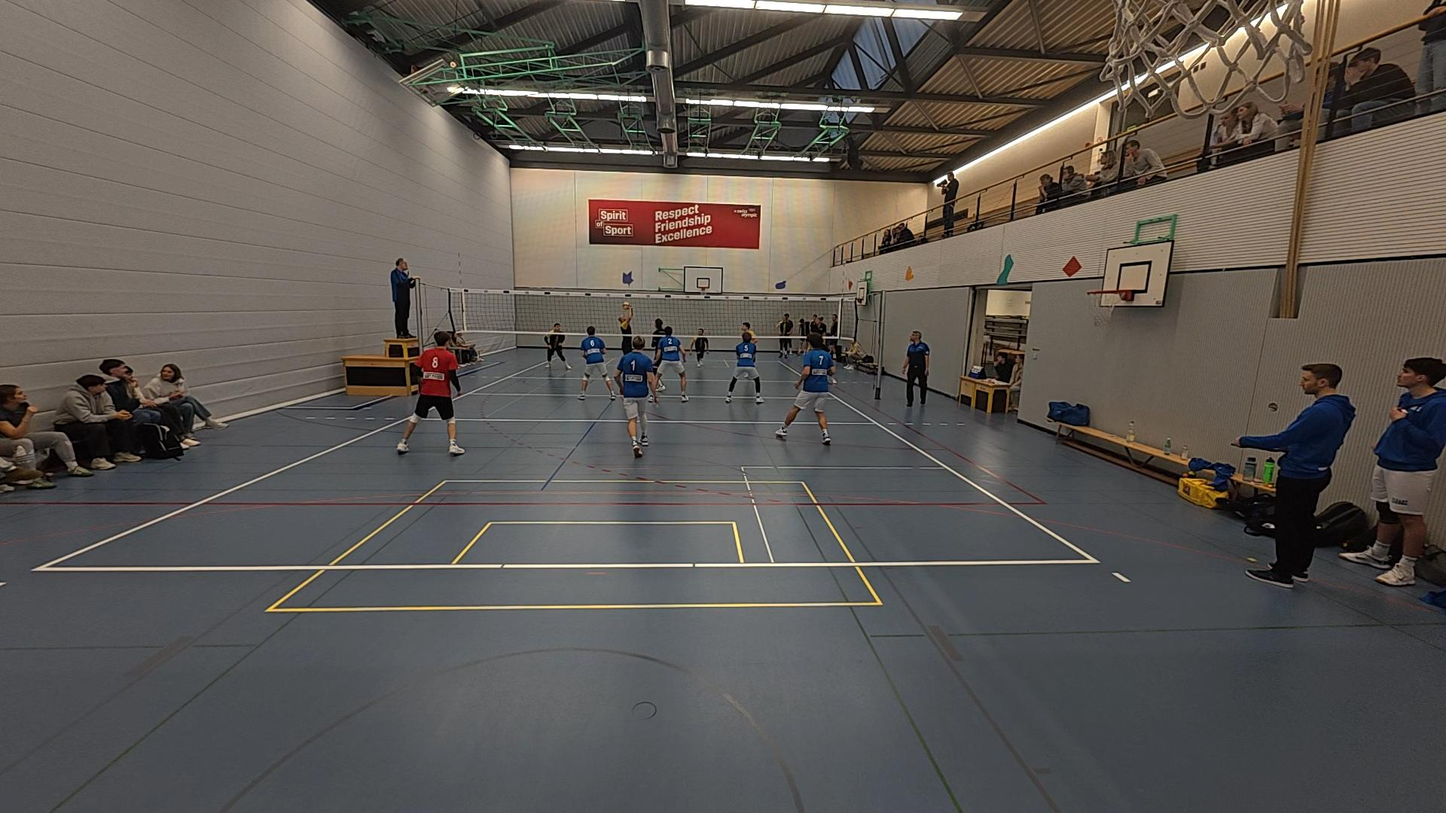Player: (396, 332, 465, 455), (774, 338, 834, 444), (608, 337, 659, 457), (723, 325, 762, 403), (650, 325, 687, 401), (577, 325, 611, 398), (806, 322, 840, 381), (540, 321, 569, 372), (740, 322, 761, 380), (688, 328, 712, 366)
Set: (615, 301, 636, 362)
ball: (902, 264, 917, 281), (621, 299, 633, 313)
